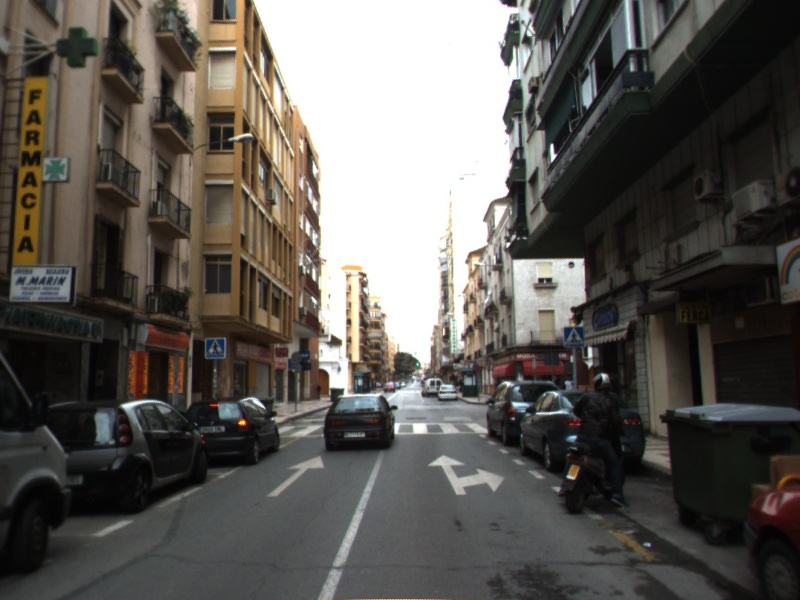STRAIGHT: (264, 454, 326, 498)
STRAIGHT_RIGHT: (426, 452, 507, 497)
